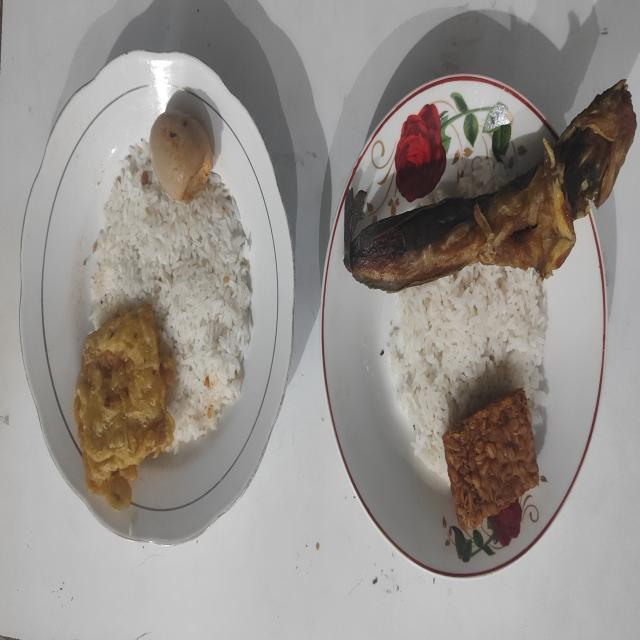nasi_putih: (90, 141, 252, 450), (385, 264, 547, 478)
tempe_goreng: (442, 388, 540, 530)
